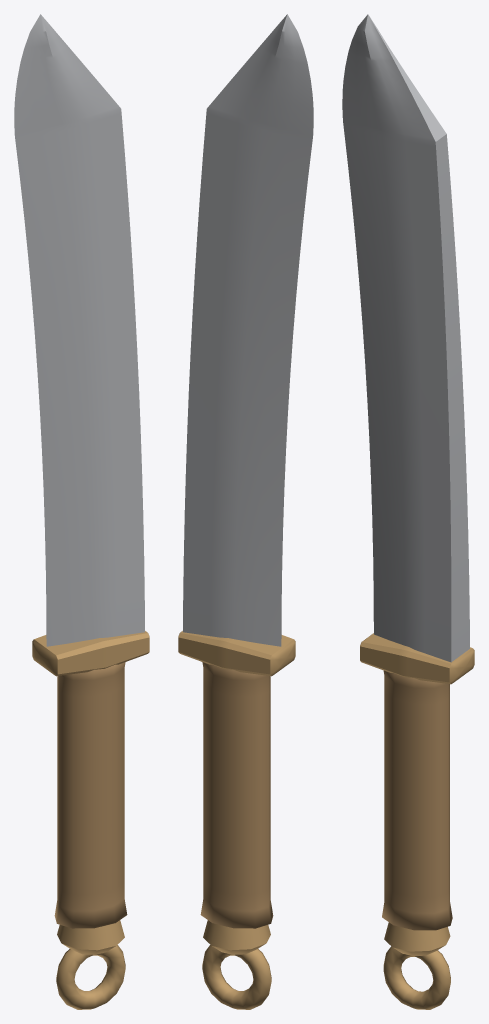
File: sea-knife.glb
The picture shows the model from 3 angles, left to right: view 1: azimuth 30°, elevation 25°; view 2: azimuth 150°, elevation 25°; view 3: azimuth 330°, elevation 25°; orthographic projection. The views are drawn at different scales.
Parts seen in each view (by area): view 1: sea-knife; view 2: sea-knife; view 3: sea-knife.
Part boxes in pixels (x1=…): sea-knife: x1=14, y1=14, x2=149, y2=1009; sea-knife: x1=178, y1=14, x2=313, y2=1009; sea-knife: x1=342, y1=14, x2=474, y2=1009.
Size of the model in its own units: 0.1276 by 0.9746 by 0.0571.
